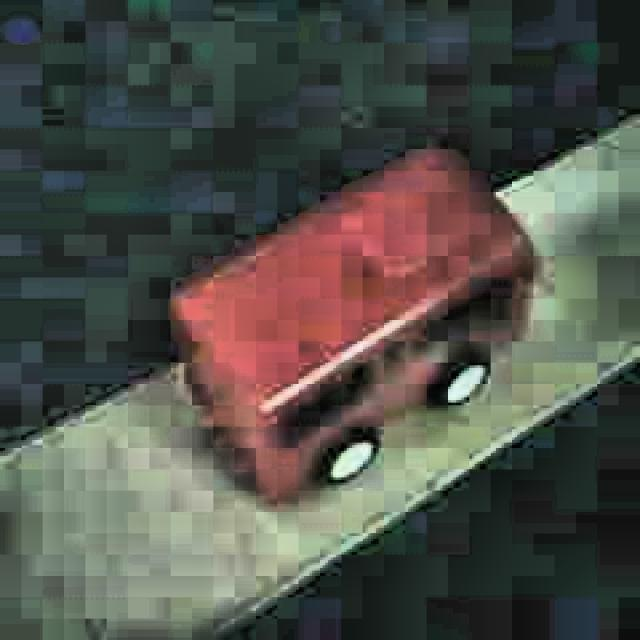bus: (169, 143, 541, 507)
